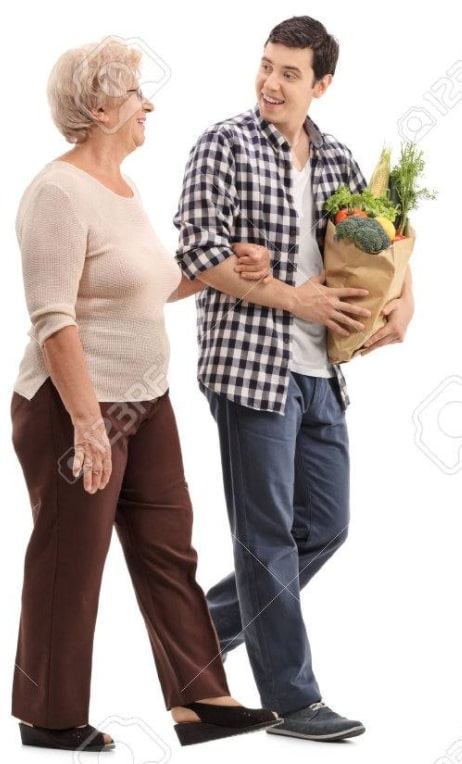Bad: (11, 16, 414, 753)
